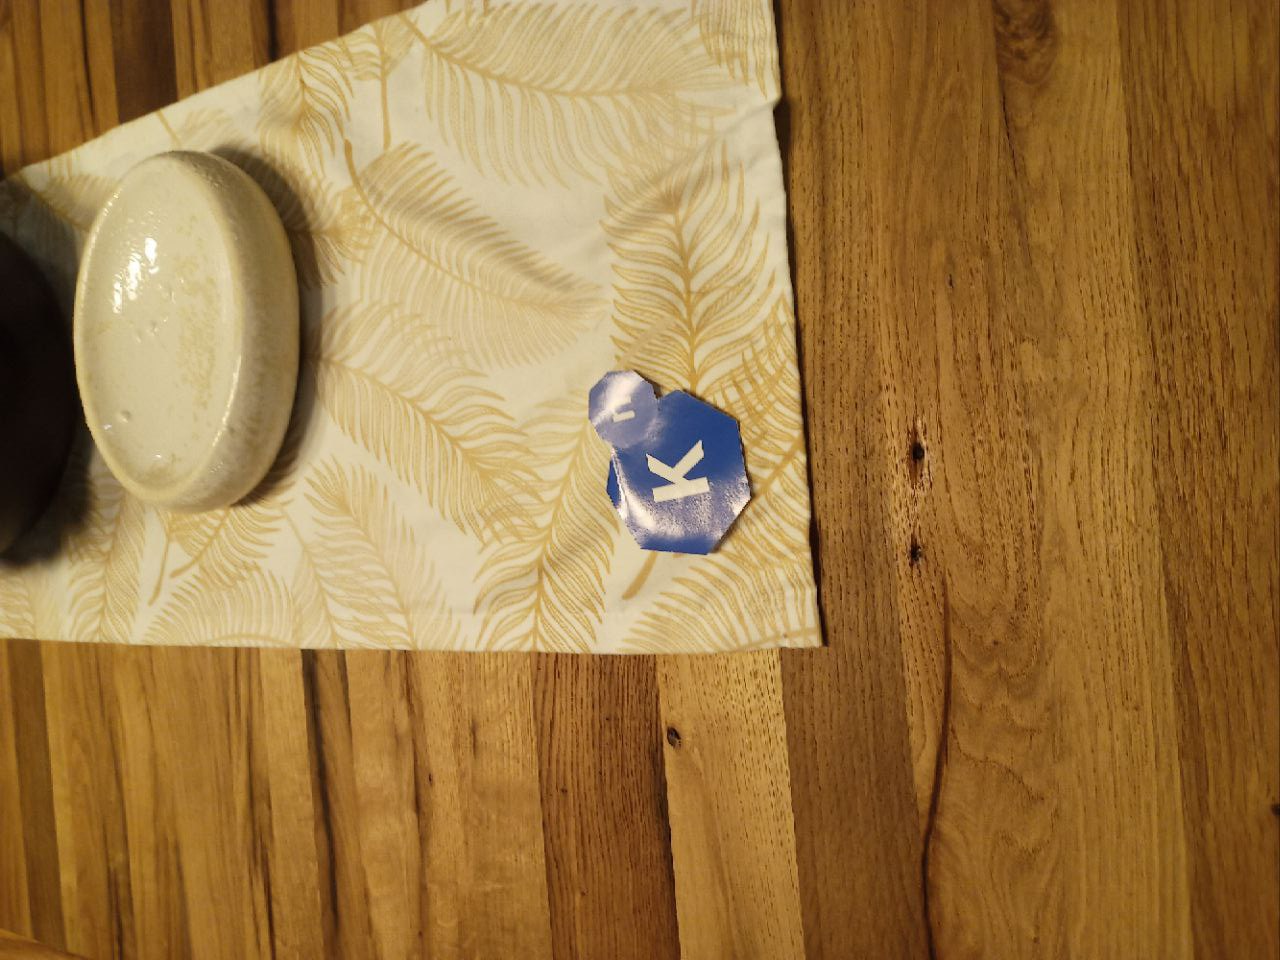knative: (587, 369, 755, 557)
